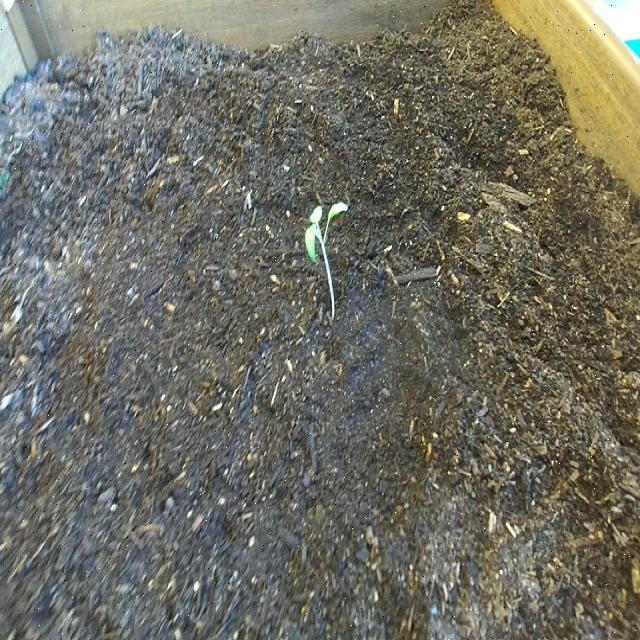Healthy: (304, 196, 353, 324)
